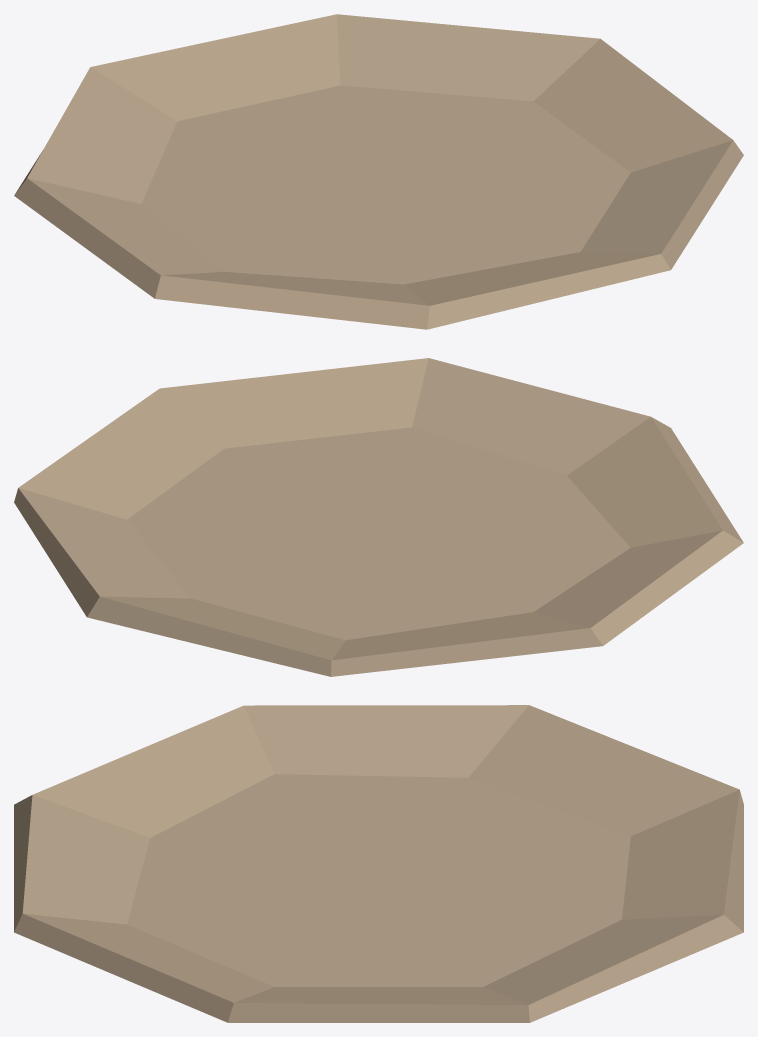
The model's file is SM_Plate_A.fbx.
The picture shows the model from 3 angles, top to bottom: view 1: azimuth 30°, elevation 25°; view 2: azimuth 150°, elevation 25°; view 3: azimuth 270°, elevation 25°; orthographic projection. The views are drawn at different scales.
Visible parts, largest first — view 1: SM_Plates_A; view 2: SM_Plates_A; view 3: SM_Plates_A.
Boxes of the visible parts, x1=… form: SM_Plates_A: x1=14, y1=14, x2=743, y2=329; SM_Plates_A: x1=14, y1=358, x2=743, y2=676; SM_Plates_A: x1=14, y1=705, x2=743, y2=1022.
Size of the model in its own units: 42.49 by 2.83 by 42.49.
